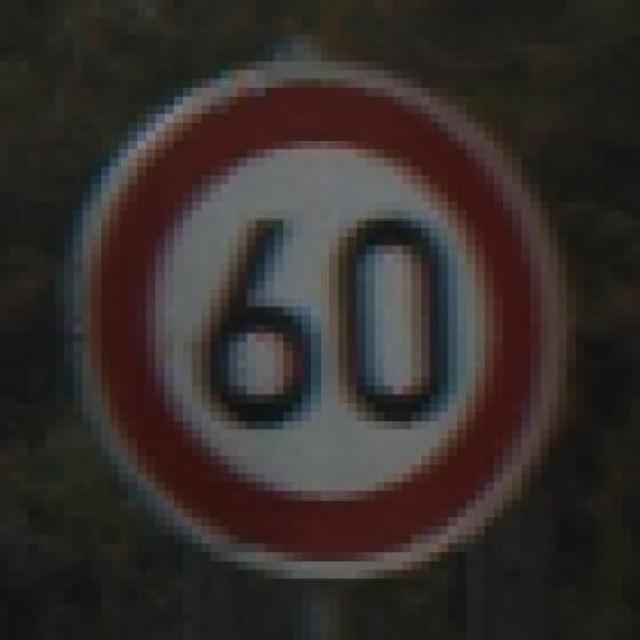forb_speed_over_60: (82, 72, 548, 572)
